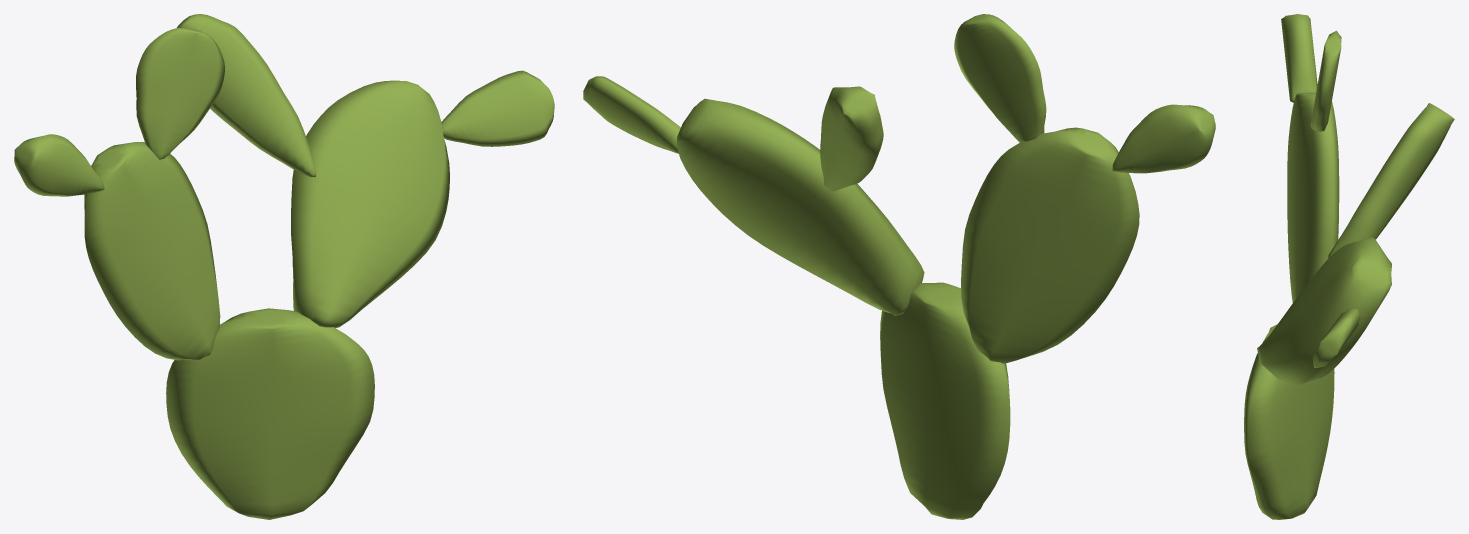
Rendered from SmallCactusVar2.fbx.
3 views of the same model, side by side, from view 1: azimuth 30°, elevation 25°; view 2: azimuth 150°, elevation 25°; view 3: azimuth 270°, elevation 25° (orthographic). The views are drawn at different scales.
Visible parts, largest first — view 1: SmallCactus2; view 2: SmallCactus2; view 3: SmallCactus2.
Part boxes in pixels (bbox=[...]): SmallCactus2: bbox=[14, 14, 554, 519]; SmallCactus2: bbox=[583, 14, 1215, 519]; SmallCactus2: bbox=[1244, 14, 1454, 519].
Size of the model in its own units: 1.28 by 1.07 by 0.4568.
